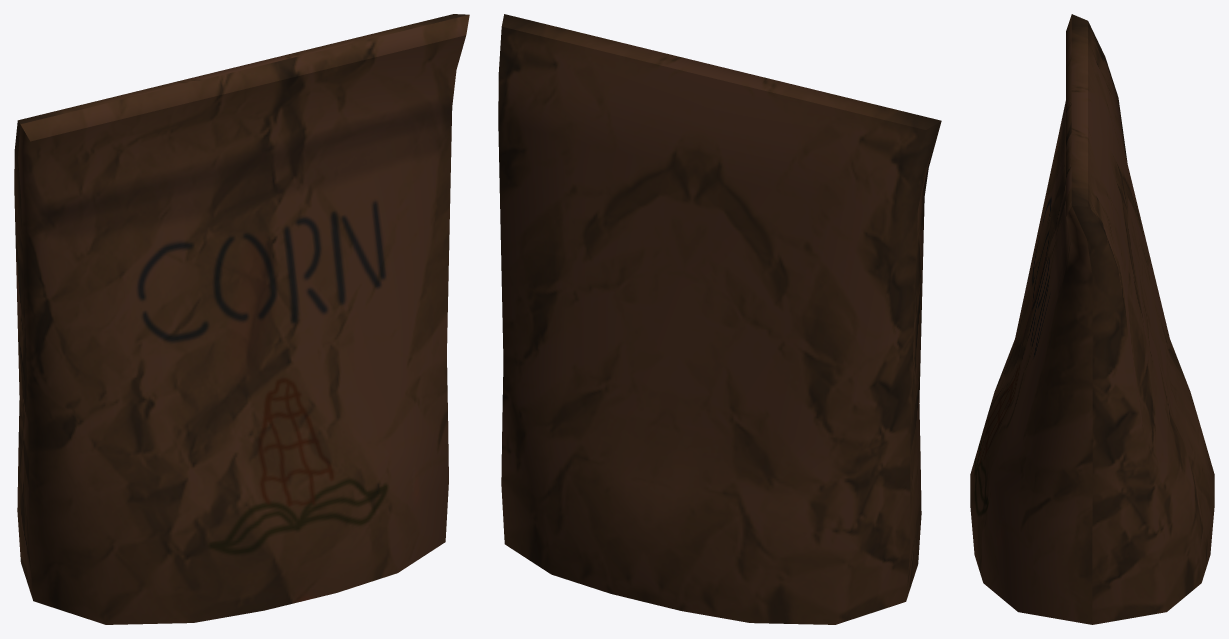
File: FeedPacket01.fbx
3 renders of one model, left to right at view 1: azimuth 30°, elevation 25°; view 2: azimuth 150°, elevation 25°; view 3: azimuth 270°, elevation 25°, orthographic. The views are drawn at different scales.
Parts seen in each view (by area): view 1: FeedBagType11; view 2: FeedBagType11; view 3: FeedBagType11.
Boxes of the visible parts, x1,y1,x2,y2 form: FeedBagType11: (14, 14, 469, 624); FeedBagType11: (498, 14, 941, 624); FeedBagType11: (970, 14, 1214, 624).
Bounding box in the file's own units: 3.37 × 3.52 × 1.81.
